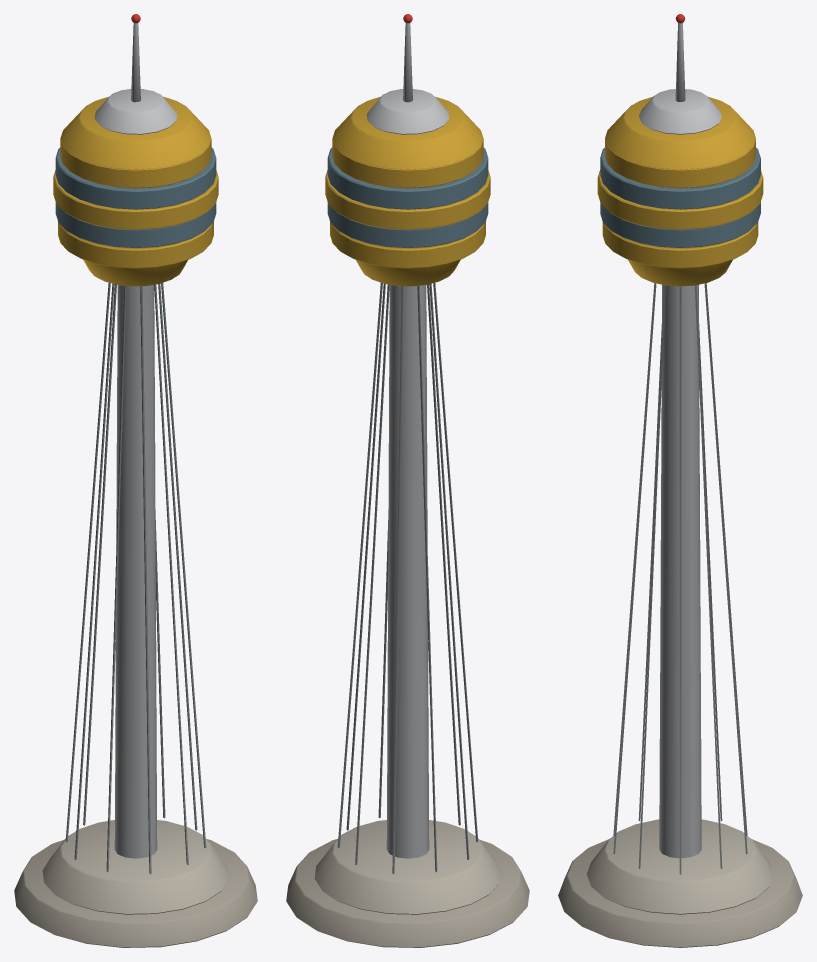
Rendered from lm-sydneytower.glb.
The picture shows the model from 3 angles, left to right: view 1: azimuth 30°, elevation 25°; view 2: azimuth 150°, elevation 25°; view 3: azimuth 270°, elevation 25°; orthographic projection.
Size of the model in its own units: 5.18 by 20.6 by 5.18.
